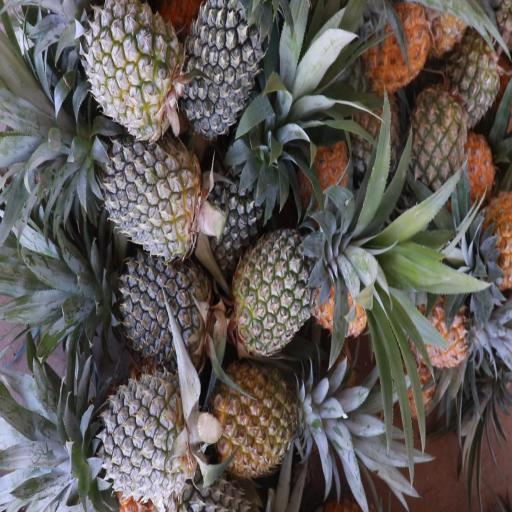------------------------------: (92, 4, 178, 148), (233, 231, 331, 350), (211, 363, 303, 474), (407, 88, 471, 192)
Pineapple - v8 v1: (369, 0, 434, 84)
